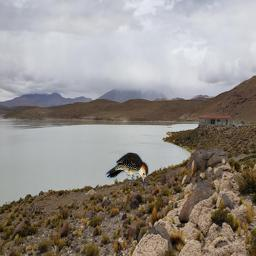Woodpecker: (104, 152, 152, 188)
